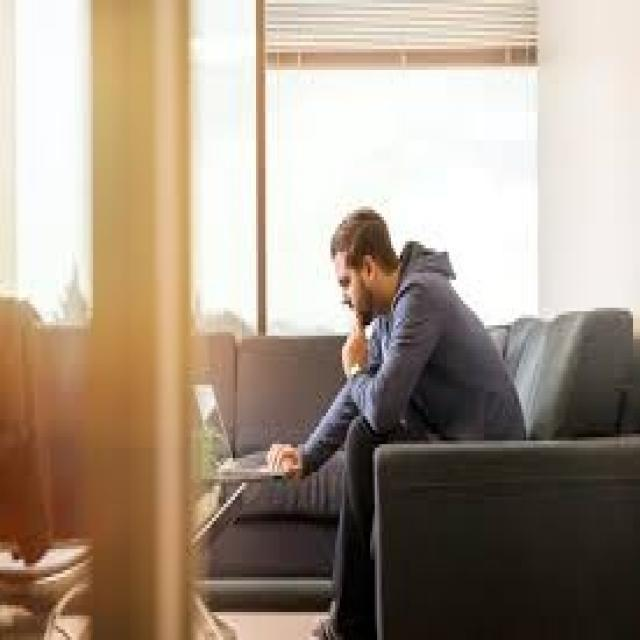sitting: (268, 199, 524, 639)
